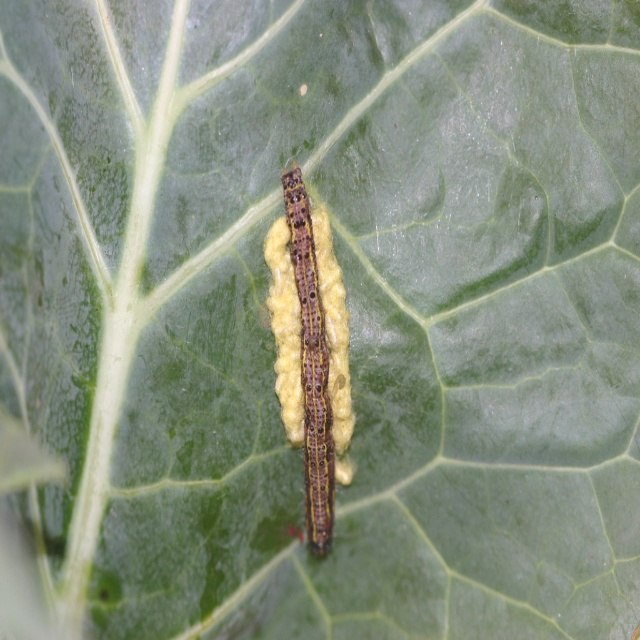Caterpillar: (281, 161, 335, 558)
